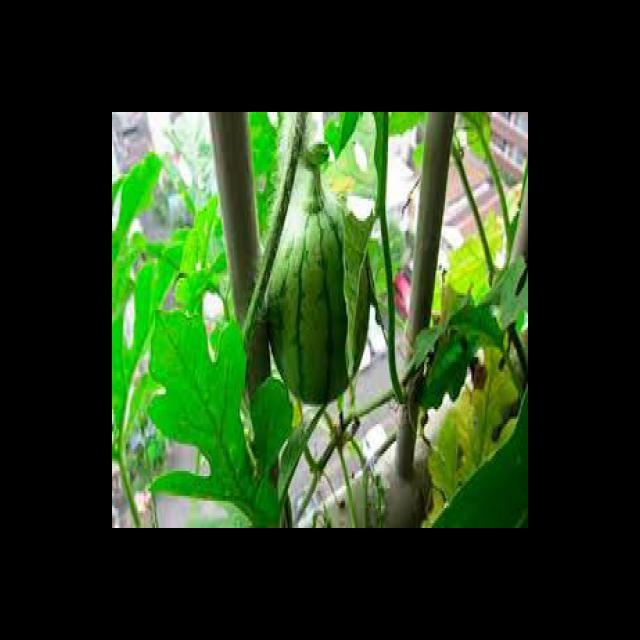watermelon: (257, 200, 372, 404)
